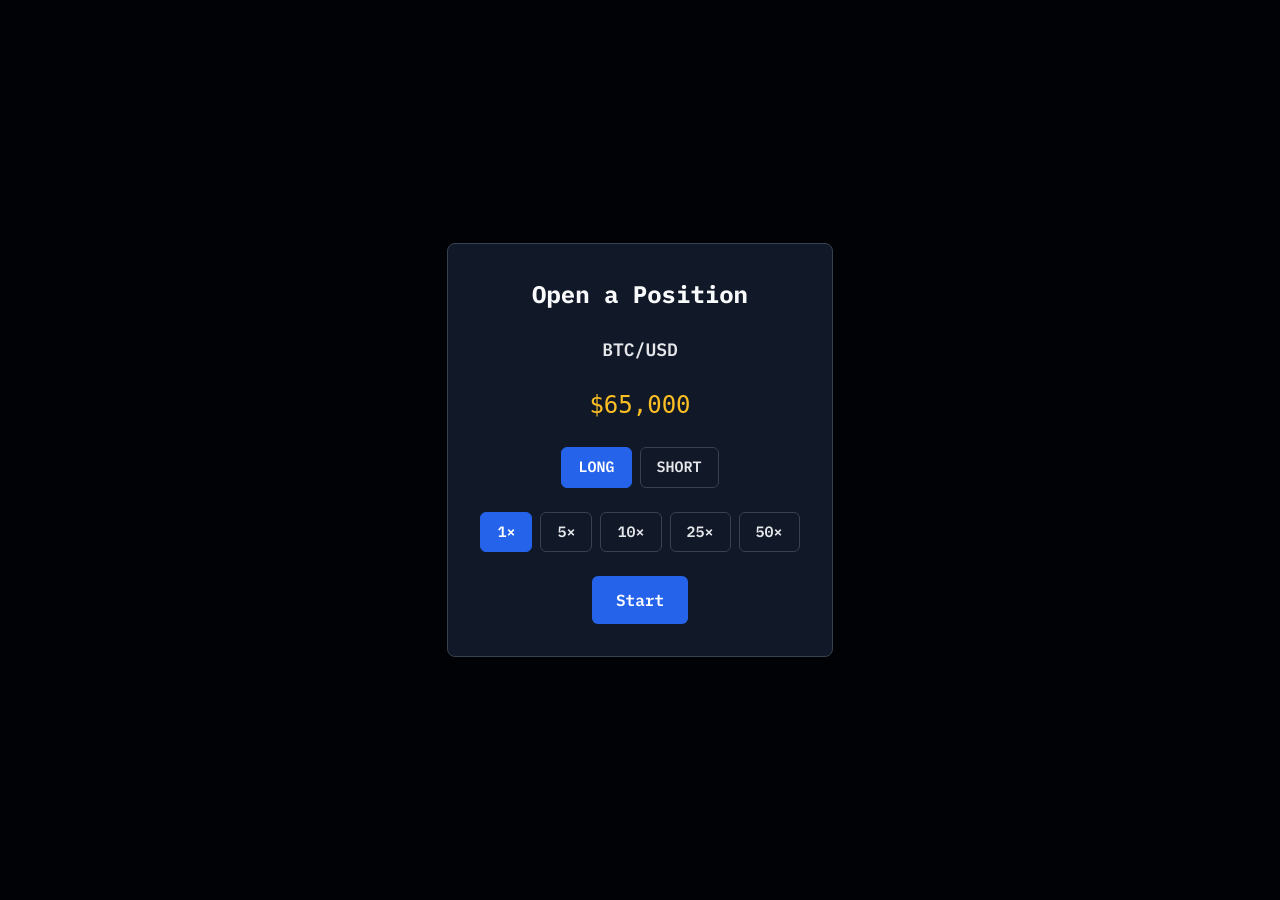
Test: GameV2App › starts one run after Start is clicked and publishes the HUD and debug surface
This screenshot has width=1280, height=900.
What coordinates should you click on to do the following:
click the button with test id "position-select-start"
I would click on:
 (640, 600)
Its box is [592, 576, 688, 624].
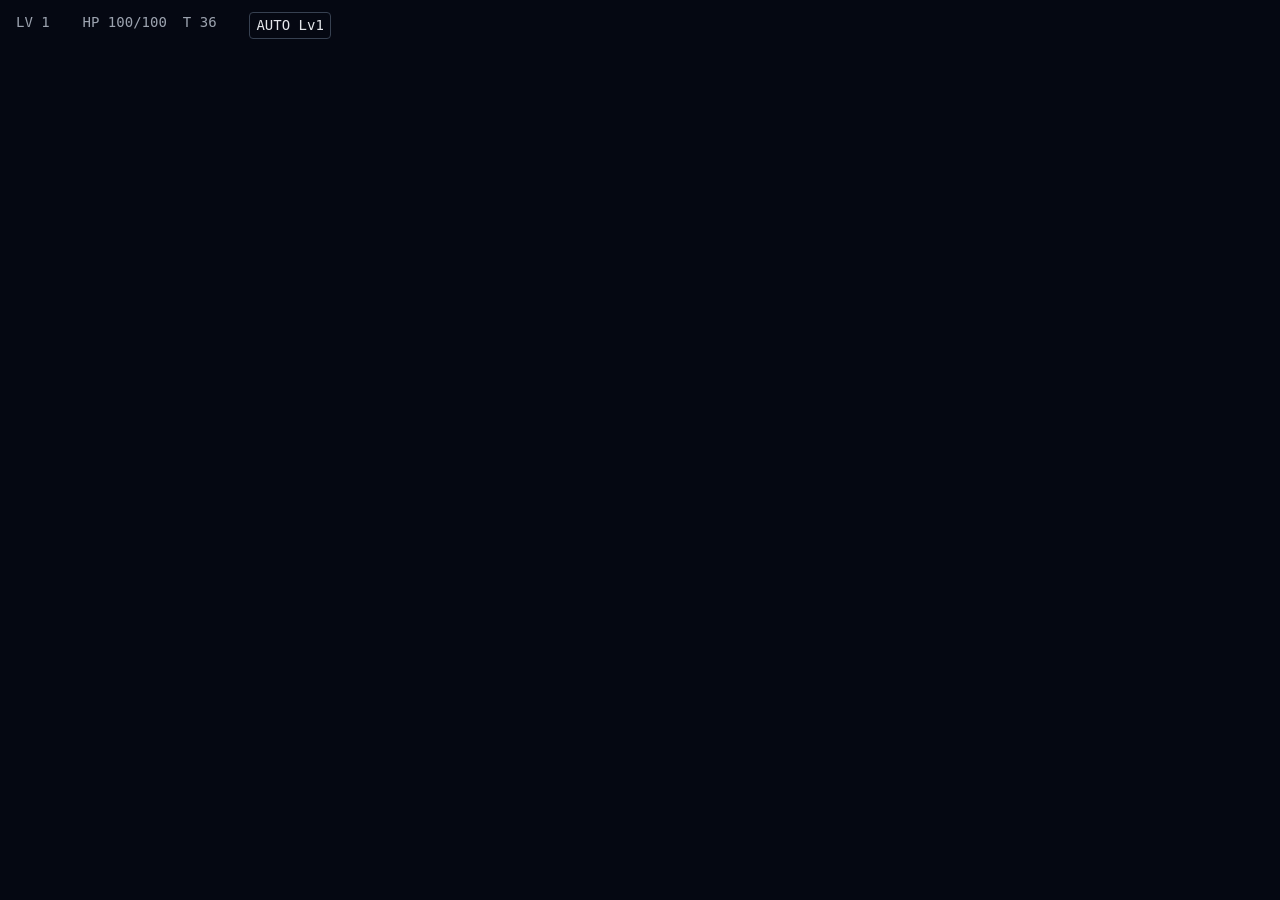
Check: the drawing with test id "game-v2-canvas" is shown
Check: the text with test id "game-v2-hud-level" reads "LV 1", box [16, 14, 50, 30]
Check: the text "AUTO Lv1" is shown, box [249, 12, 331, 39]
